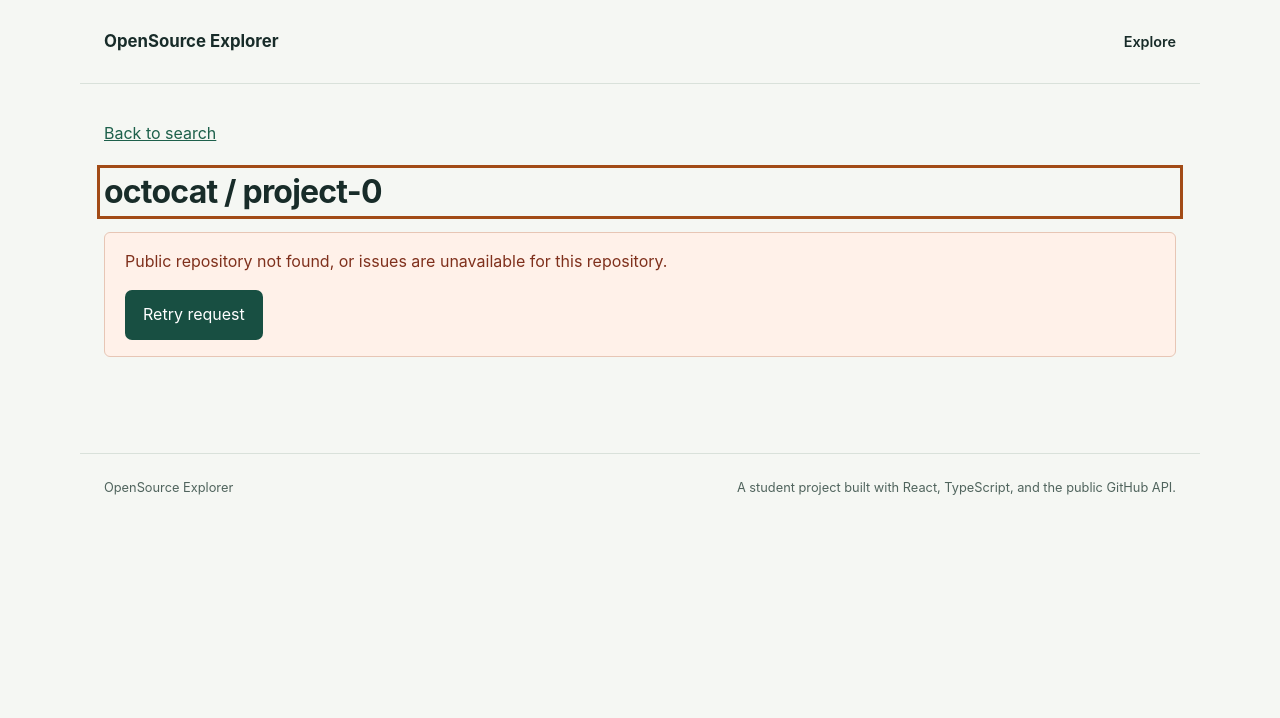
Test case: detail errors, cancellation, and cooldown › renders safe HTTP 404 and allows explicit retry
Expected: the text "Public repository not found, or issues are unavailable for this repository." is shown, [125, 251, 668, 271]
Step 1. Click the button "Retry request" → (194, 315), box [125, 290, 263, 340]
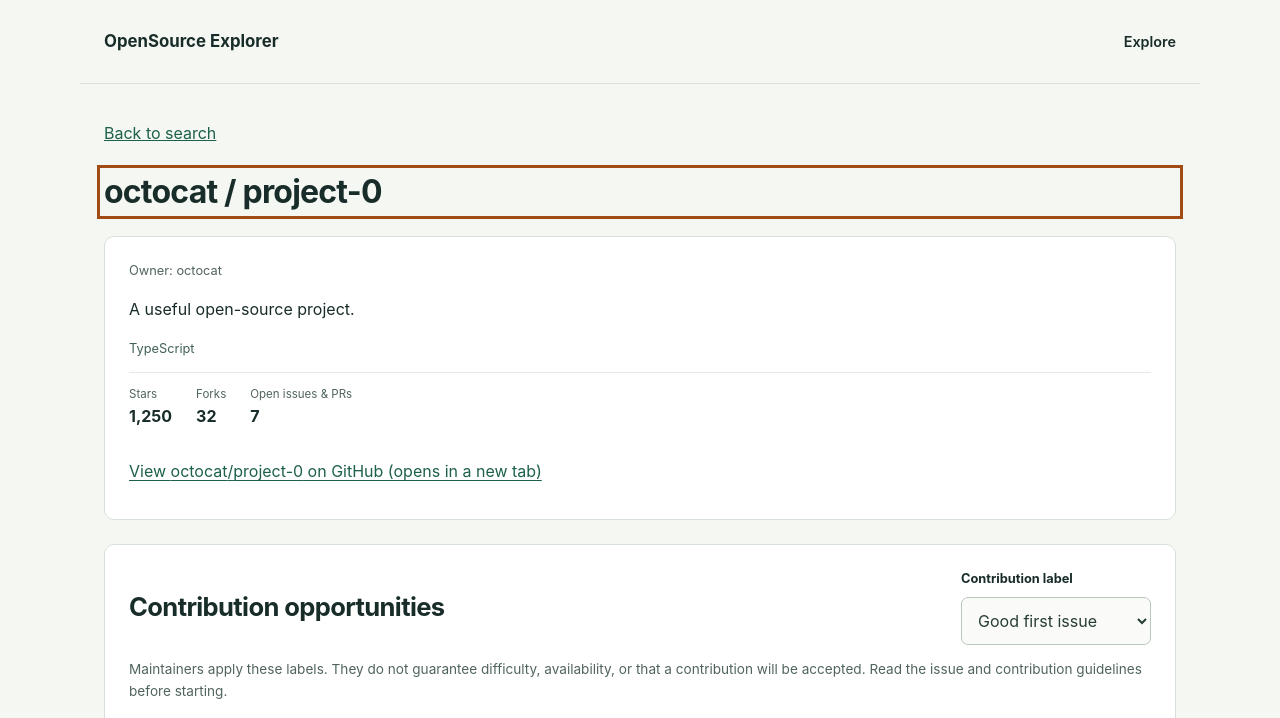
Expected: the text "Owner: octocat" is shown, [129, 263, 222, 278]
